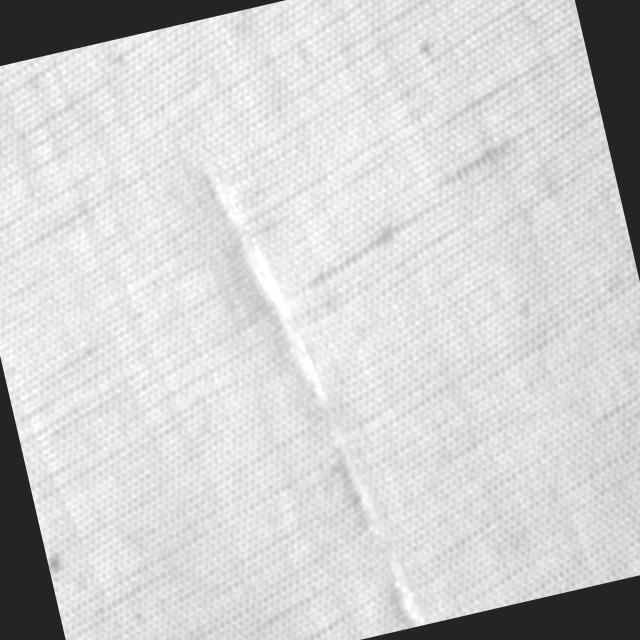thread error: (196, 136, 417, 640)
